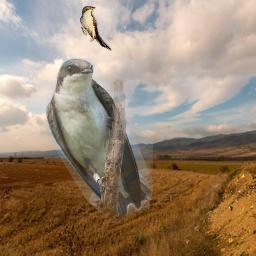Cuckoo: (80, 6, 112, 52)
Swallow: (46, 58, 153, 218)
